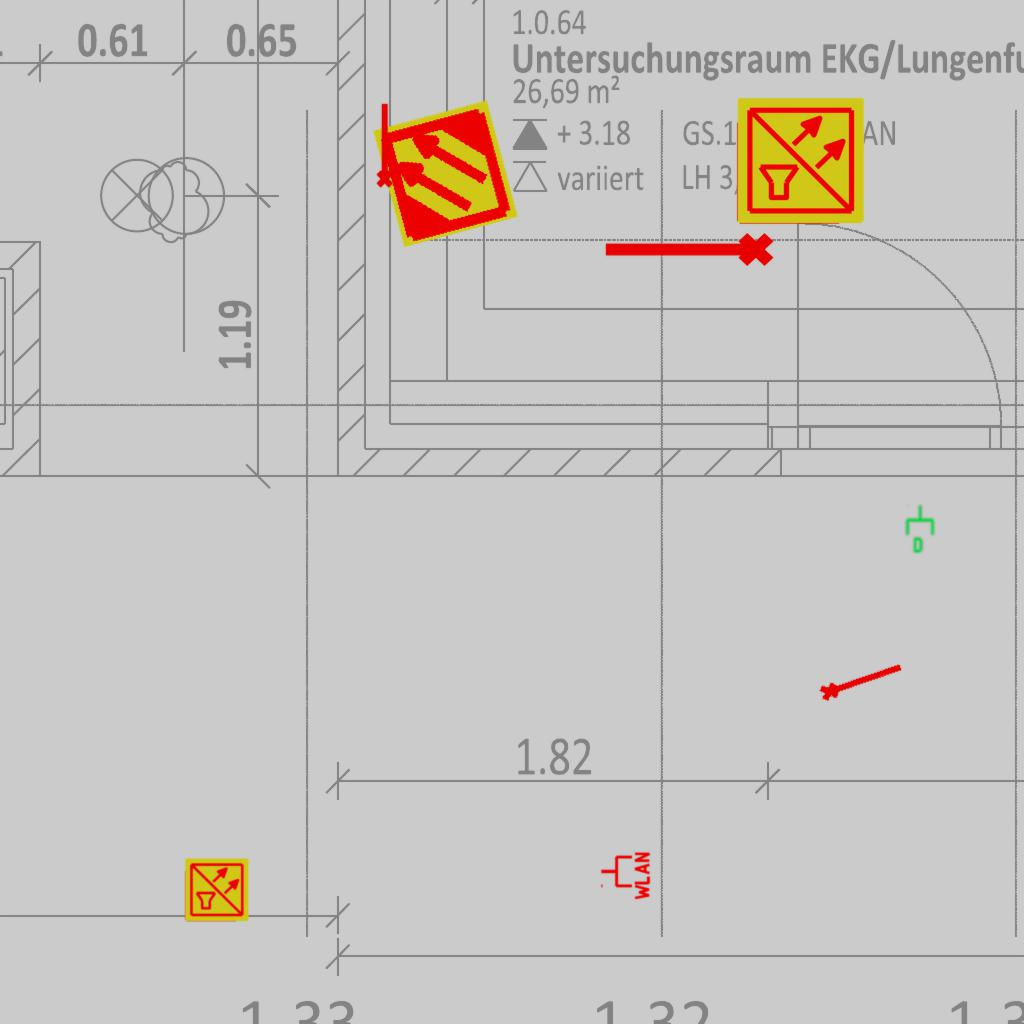ASR_Ansaugoeffnung: (600, 229, 776, 275), (815, 654, 907, 705), (372, 101, 395, 189)
ASR_Ansaugrauchmelder: (368, 96, 523, 251)
Datenanschluss_einfach: (904, 504, 938, 554)
OKW_Multisensormelder_(Kombination_optischer_Rauch-Kahlenmonoxid_Waerme-Melder): (735, 95, 867, 227), (184, 857, 250, 923)
WLAN: (599, 850, 651, 902)
